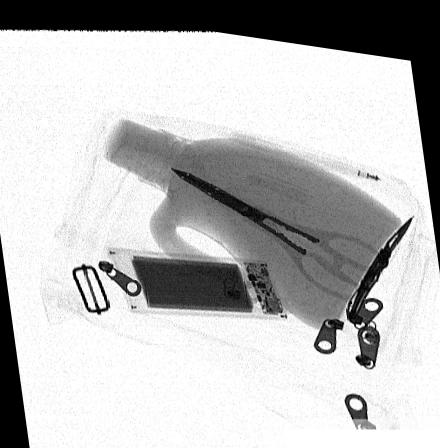Knife: (342, 200, 413, 315)
Powerbank: (101, 243, 291, 309)
Scissors: (168, 159, 384, 290)
